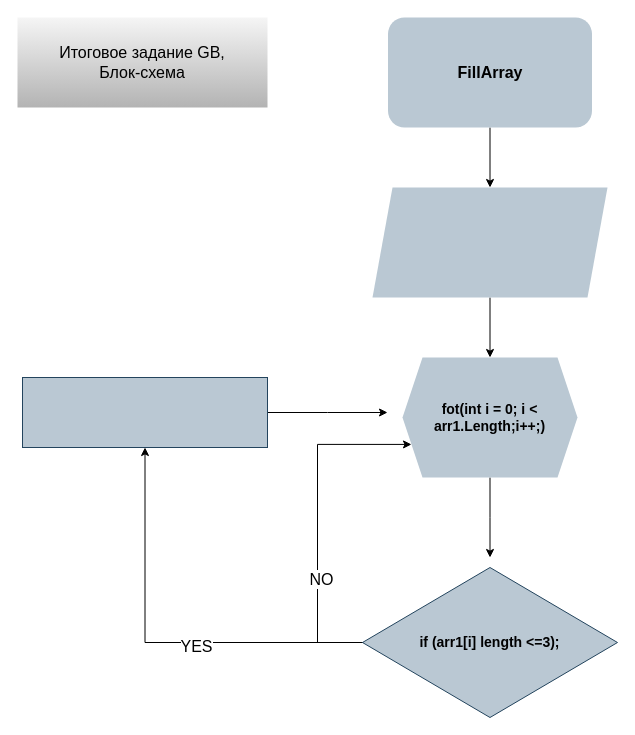
Some shapes in this 635 by 735 pixel diagram are drawn without their labels. The shapes that lost their labels are listed below. From the top down, each one's centre as x and y in pixels, then its label:
At [489,242]: "string[]arr1 string[]arr2 int count = 0".
At [145,412]: "arr2[count] = arr1[i]; count++;".
